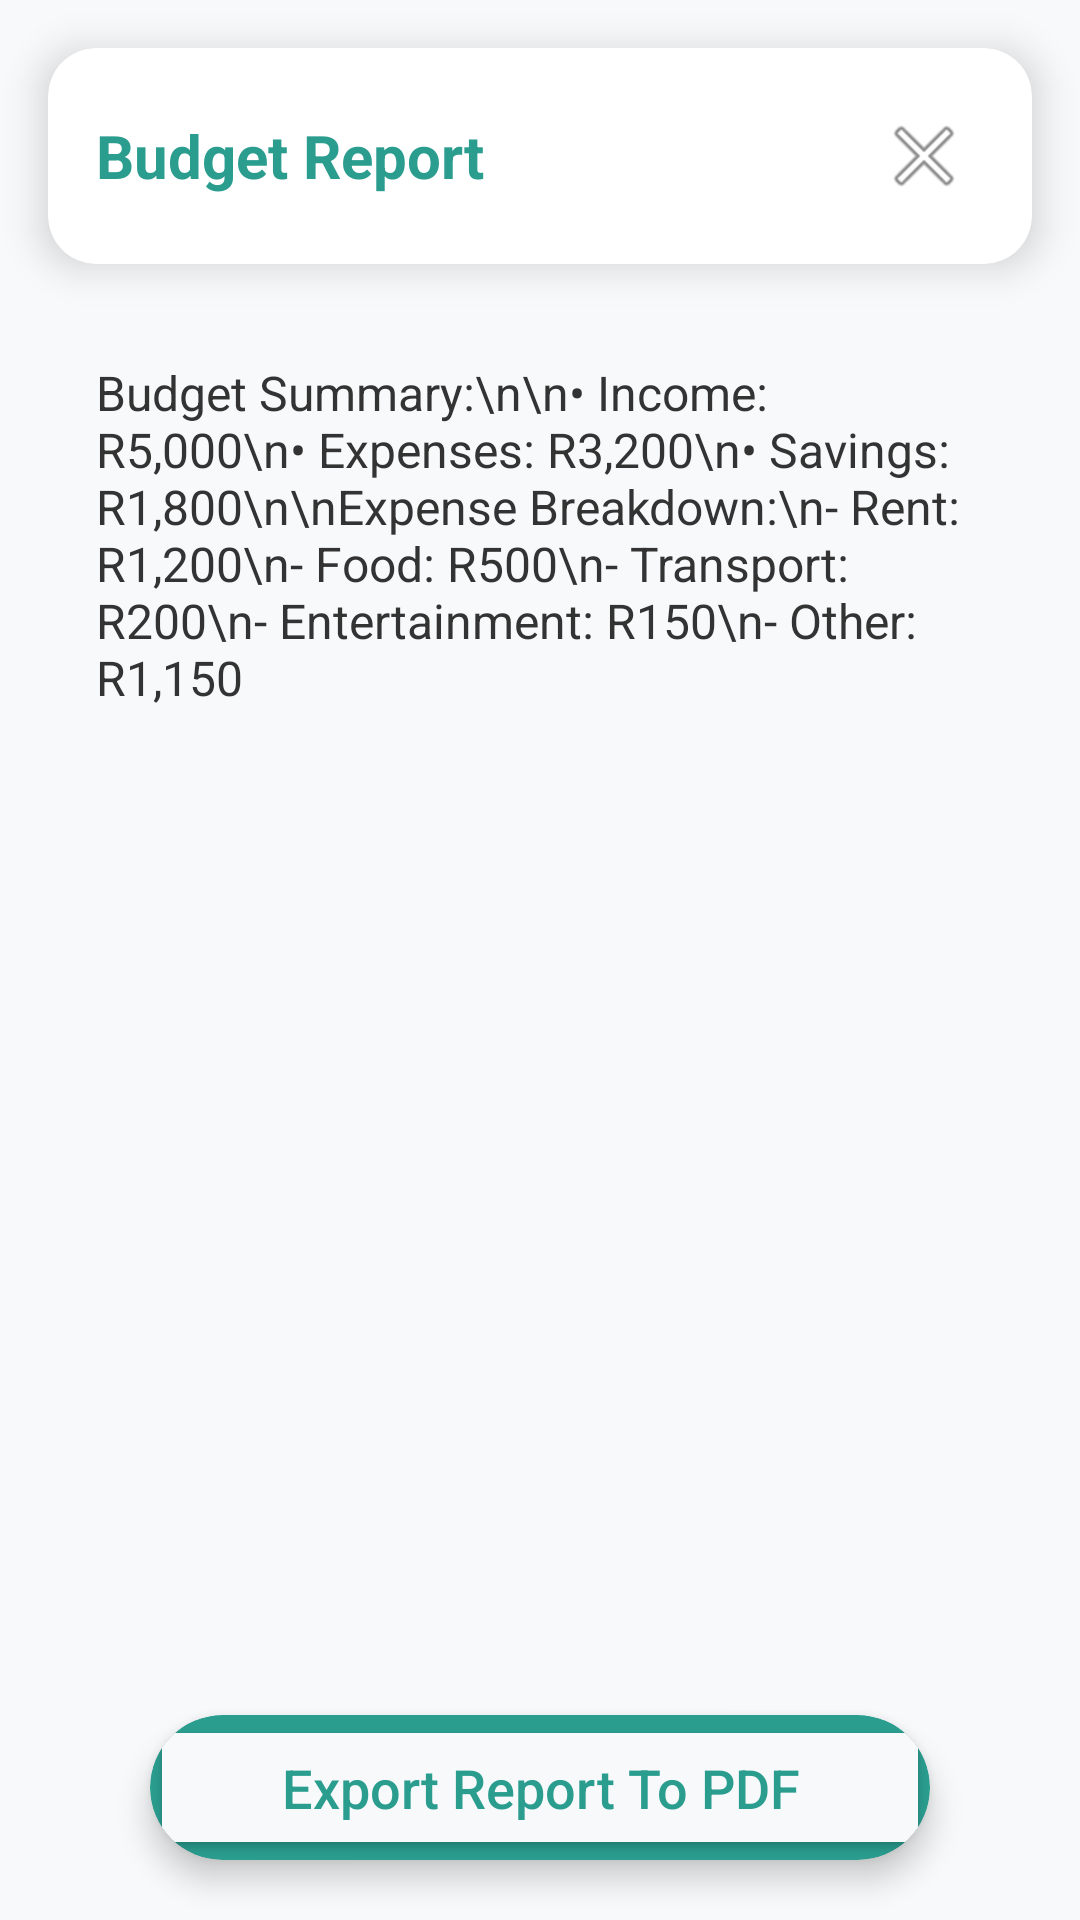

Named icons in this screenshot (1080w x 1920h) and their centers, [x,y]:
Exit: [924,156]
